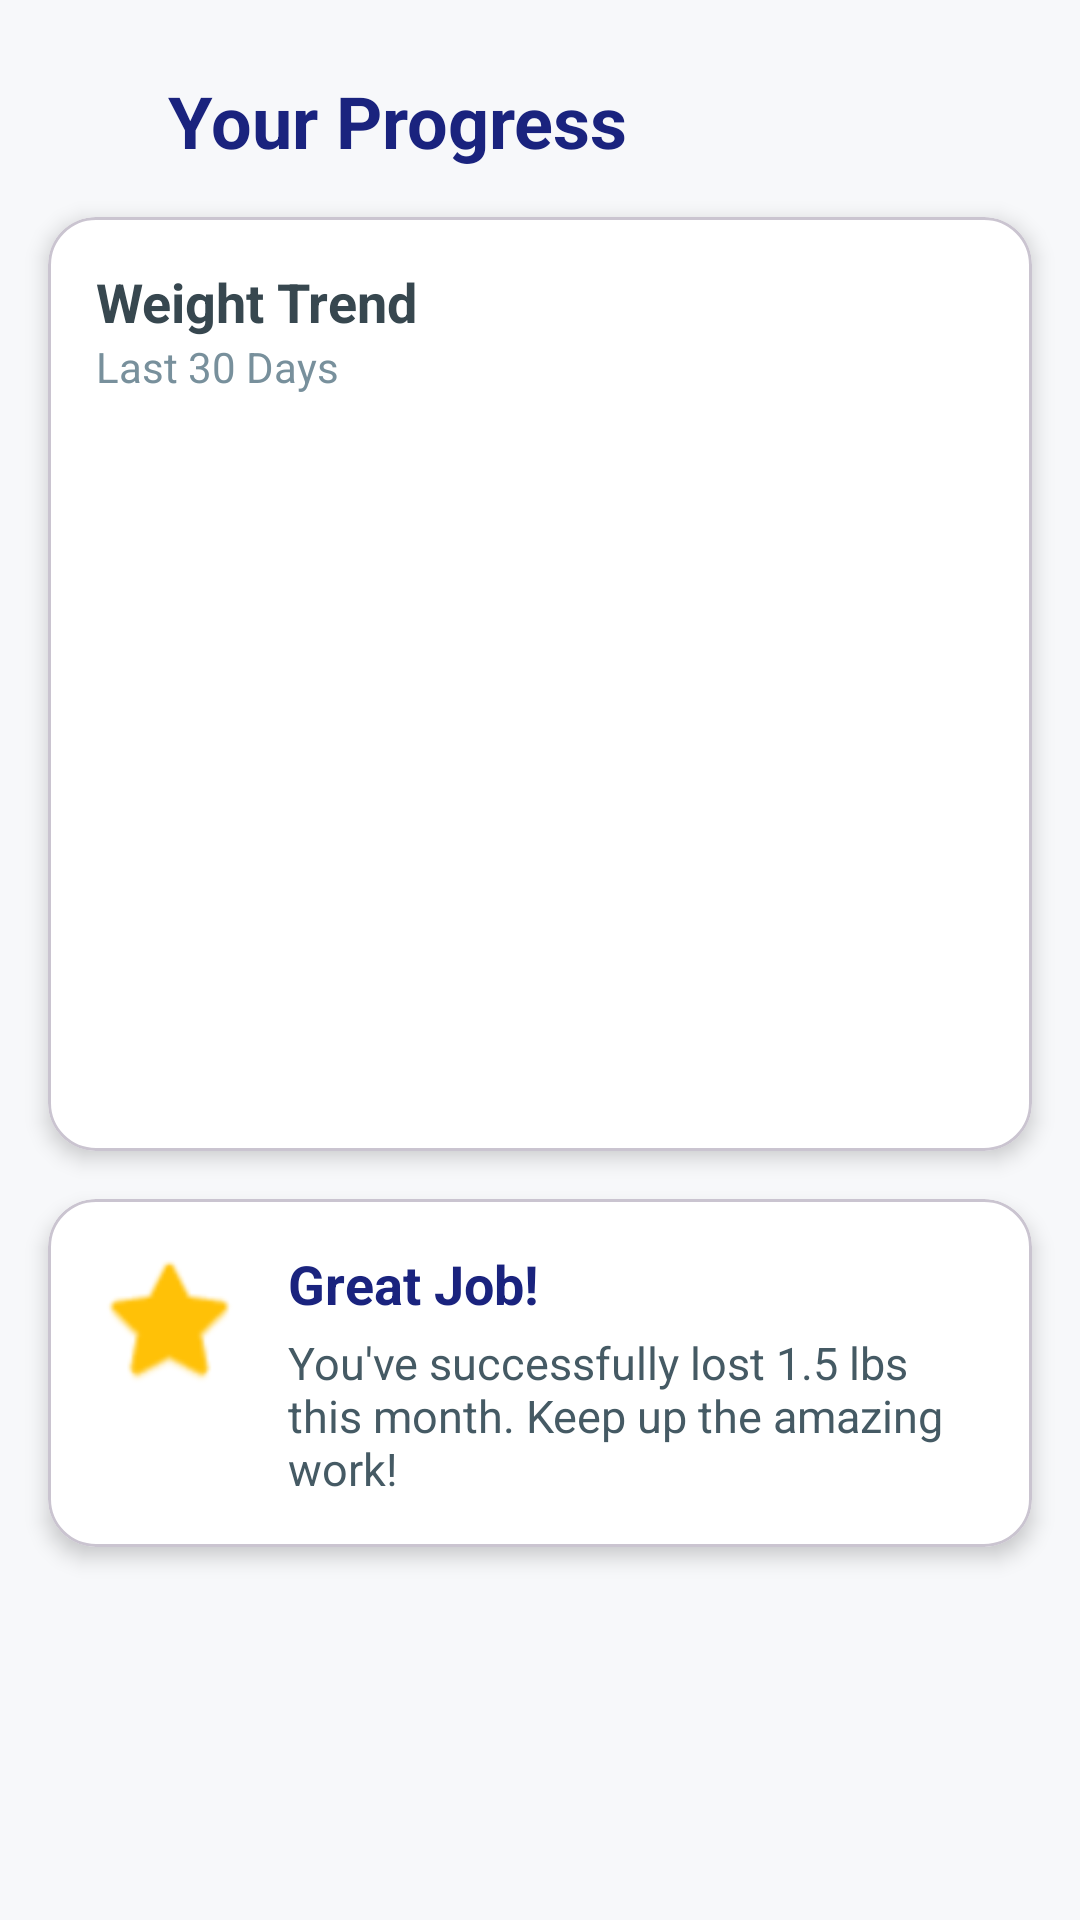

Where icons sit on this 1080px x 1920px app screen, as (x1, y1, x2, y2):
star on: (109, 1262, 229, 1379)
